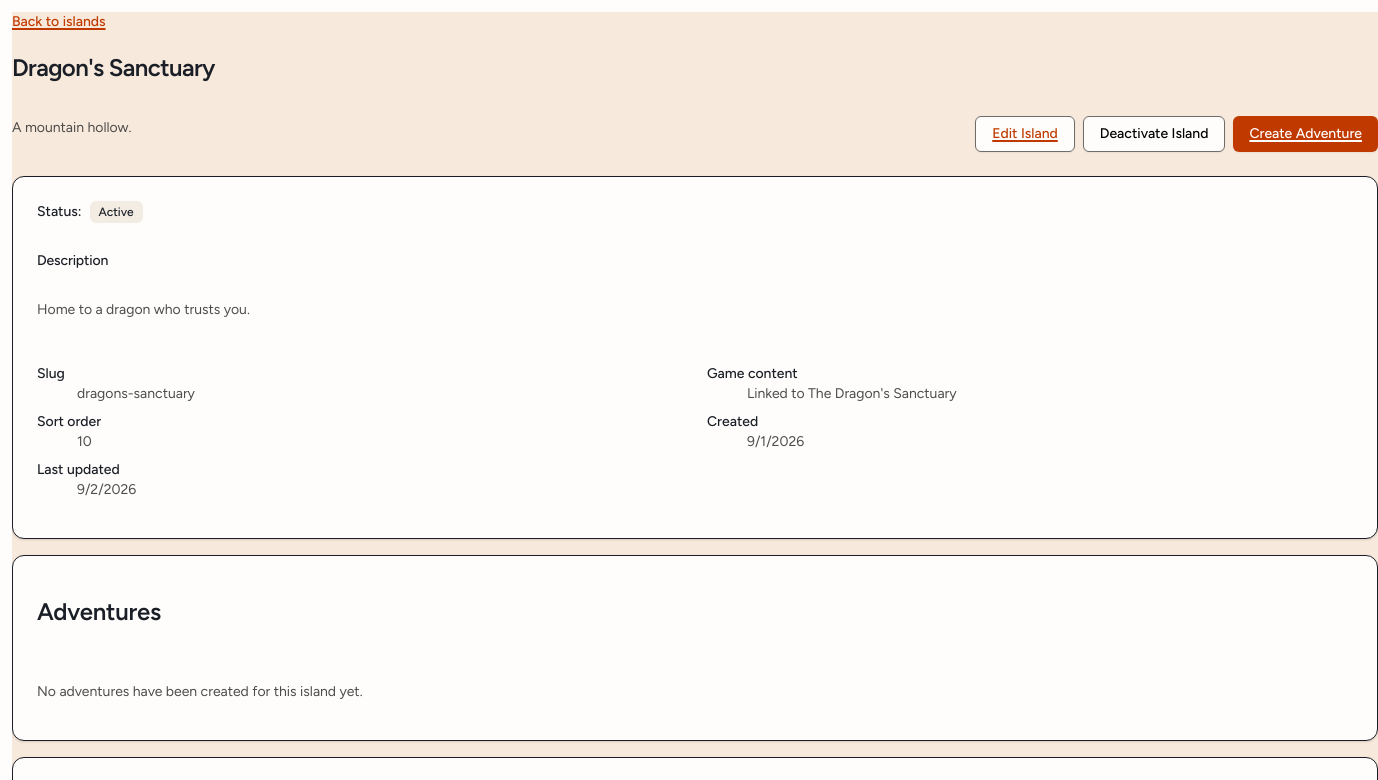
Test: AdminIslandDetail › shows the no-adventures empty state and deactivates the island
Expected: the text "No adventures have been created for this island yet." is shown, [37, 683, 363, 700]
Click the button "Deactivate Island": (1154,134) [1083, 116, 1225, 152]
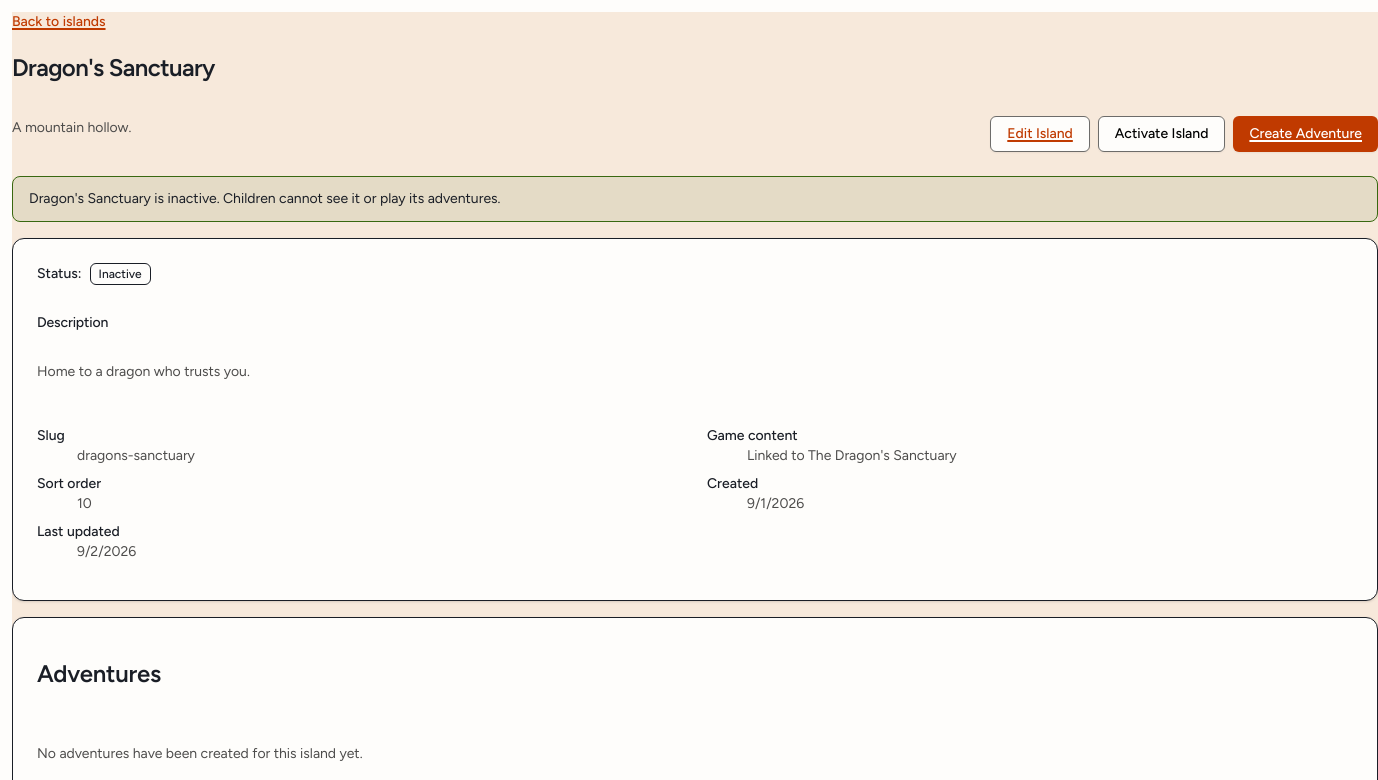
Now the message shows "is inactive", box [29, 190, 500, 207]
